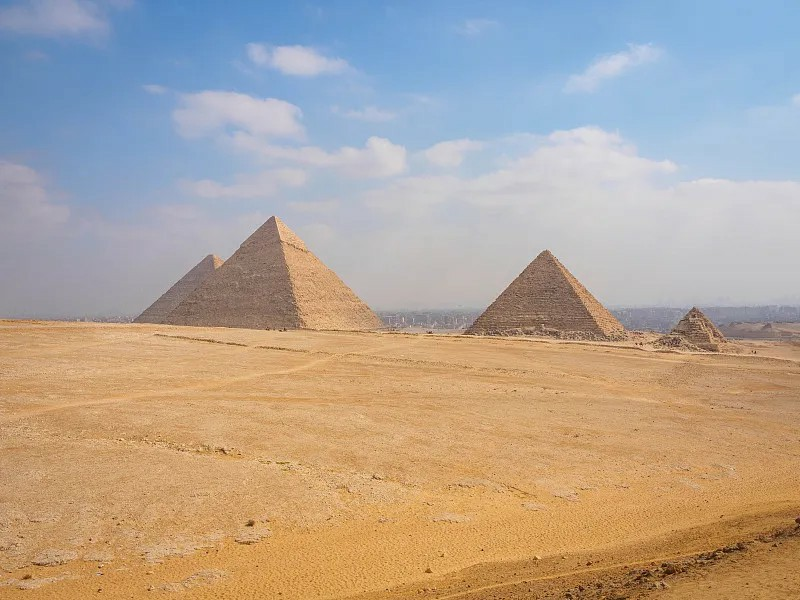Pyramid: (160, 214, 391, 333), (462, 250, 629, 340), (132, 254, 224, 325)
